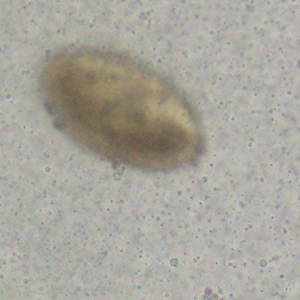Fasciola_hepatica_egg: (37, 45, 208, 170)
